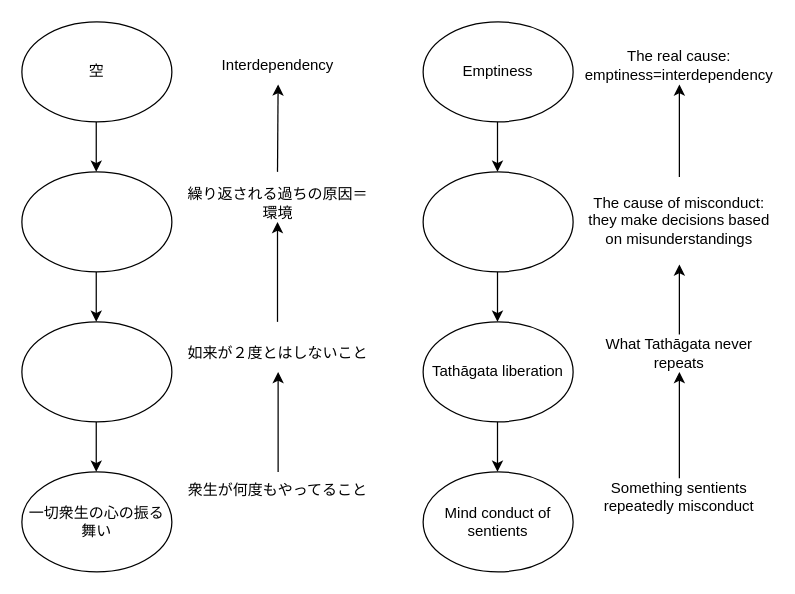
This 795x594 diagram has some shape labels left out. Each missing label, with the centre of its shape:
"62 False views" goes at (x=497, y=221).
"如来の解脱" goes at (x=96, y=371).
"６２の誤見" goes at (x=96, y=221).
